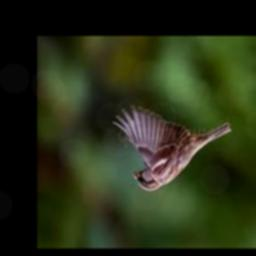Sparrow: (113, 106, 230, 192)
